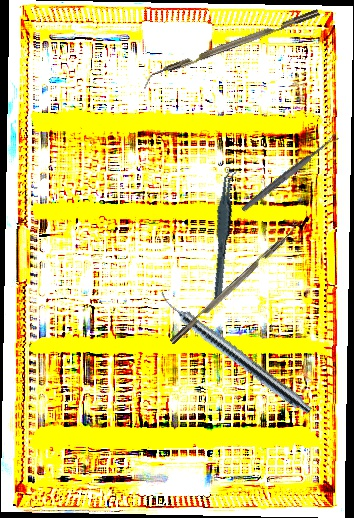Chopper: (164, 218, 302, 345), (138, 8, 324, 90)
Handpiece: (153, 288, 317, 418)
Surgical Spoon: (240, 132, 340, 214)
Tissue Forceps: (198, 168, 249, 302)
